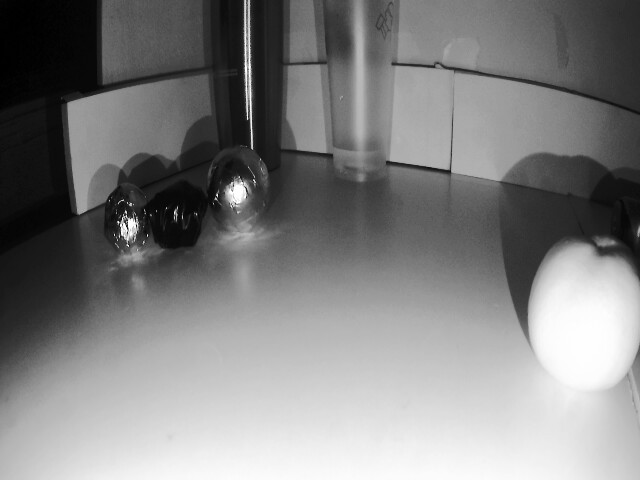black: (146, 185, 208, 245)
silver: (208, 144, 275, 236), (102, 180, 150, 252)
